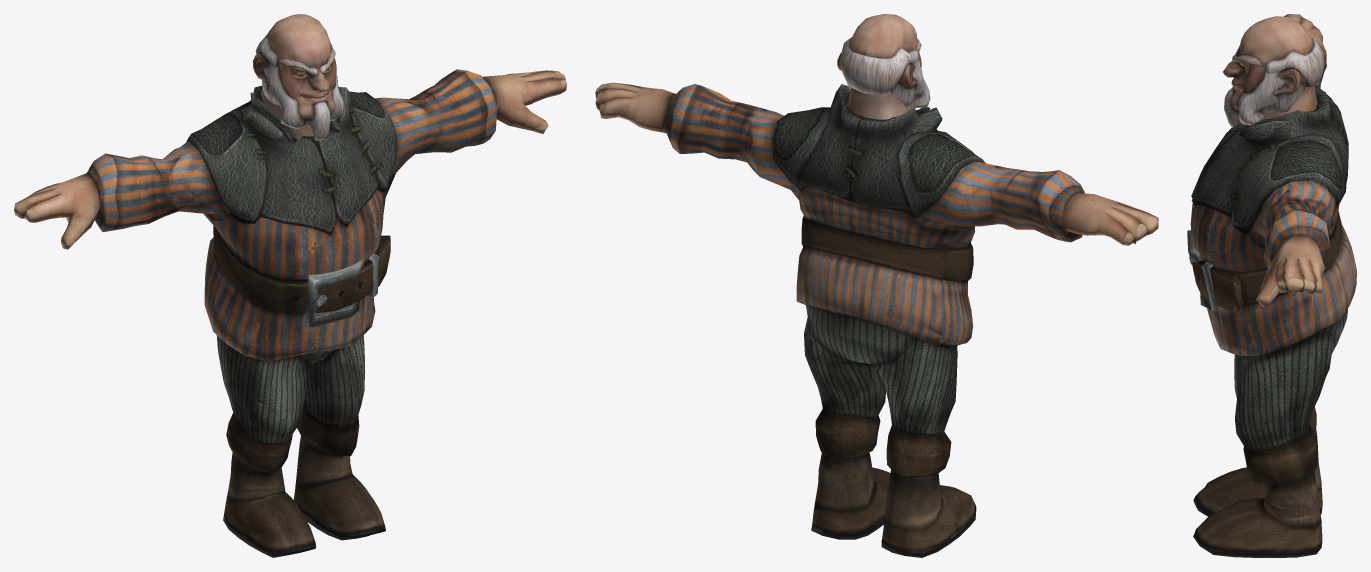
File: Walking1.fbx
The picture shows the model from 3 angles, left to right: view 1: azimuth 30°, elevation 25°; view 2: azimuth 150°, elevation 25°; view 3: azimuth 270°, elevation 25°; orthographic projection.
Parts seen in each view (by area): view 1: node_id45; view 2: node_id45; view 3: node_id45.
Part boxes in pixels (<box>): node_id45: <box>14,14,566,557</box>; node_id45: <box>595,14,1158,557</box>; node_id45: <box>1187,14,1356,557</box>.
Size of the model in its own units: 0.512 by 0.4509 by 0.136.
Materials: 1 (1 with a texture image).
